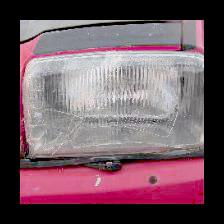head_lamp: (29, 67, 169, 158)
